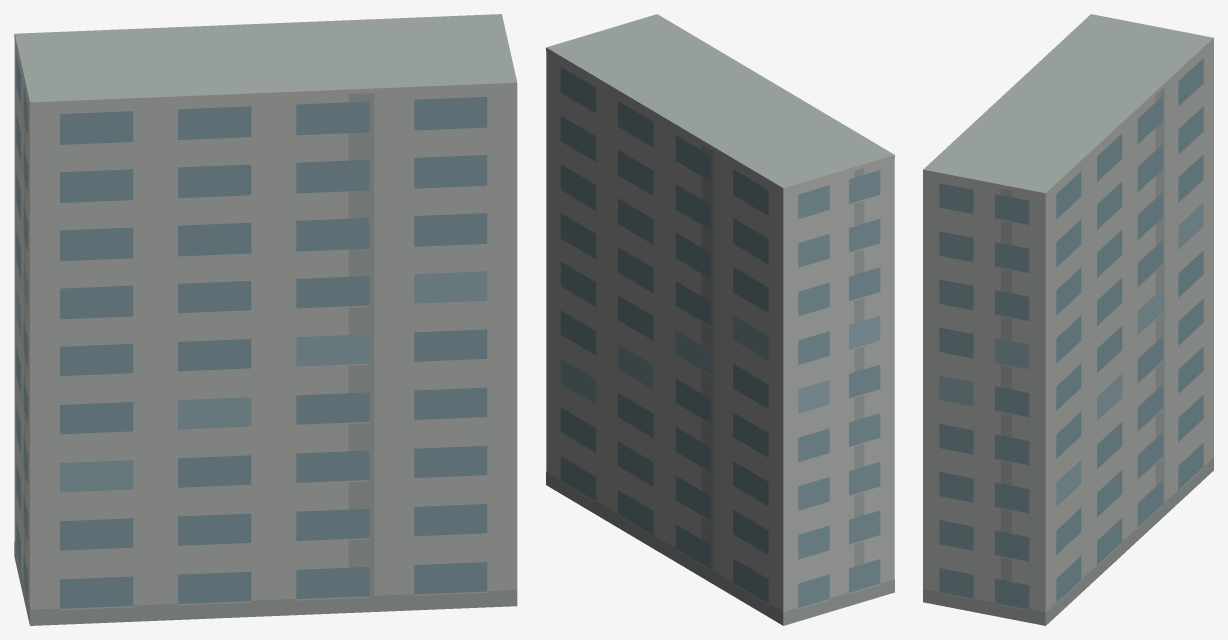
Rendered from residential-0bc88f98-adb3-4f31-a7a9-dae8ac9e5ebe.glb.
The picture shows the model from 3 angles, left to right: view 1: azimuth 30°, elevation 25°; view 2: azimuth 150°, elevation 25°; view 3: azimuth 270°, elevation 25°; orthographic projection. The views are drawn at different scales.
Visible parts, largest first — view 1: residential-0bc88f98-adb3-4f31-a7a9-dae8ac9e5ebe.tmp; view 2: residential-0bc88f98-adb3-4f31-a7a9-dae8ac9e5ebe.tmp; view 3: residential-0bc88f98-adb3-4f31-a7a9-dae8ac9e5ebe.tmp.
Boxes of the visible parts, x1,y1,x2,y2 form: residential-0bc88f98-adb3-4f31-a7a9-dae8ac9e5ebe.tmp: (14, 14, 517, 625); residential-0bc88f98-adb3-4f31-a7a9-dae8ac9e5ebe.tmp: (546, 14, 894, 625); residential-0bc88f98-adb3-4f31-a7a9-dae8ac9e5ebe.tmp: (923, 14, 1213, 625).
Size of the model in its own units: 24 by 27 by 16.45.
